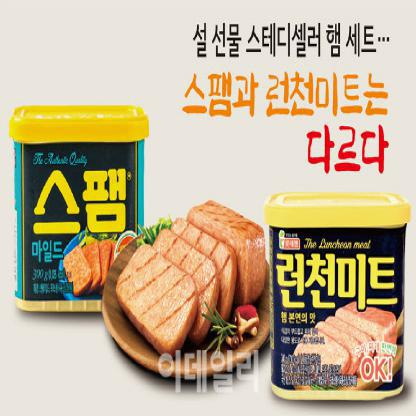spam: (5, 107, 142, 306), (164, 214, 263, 300)
